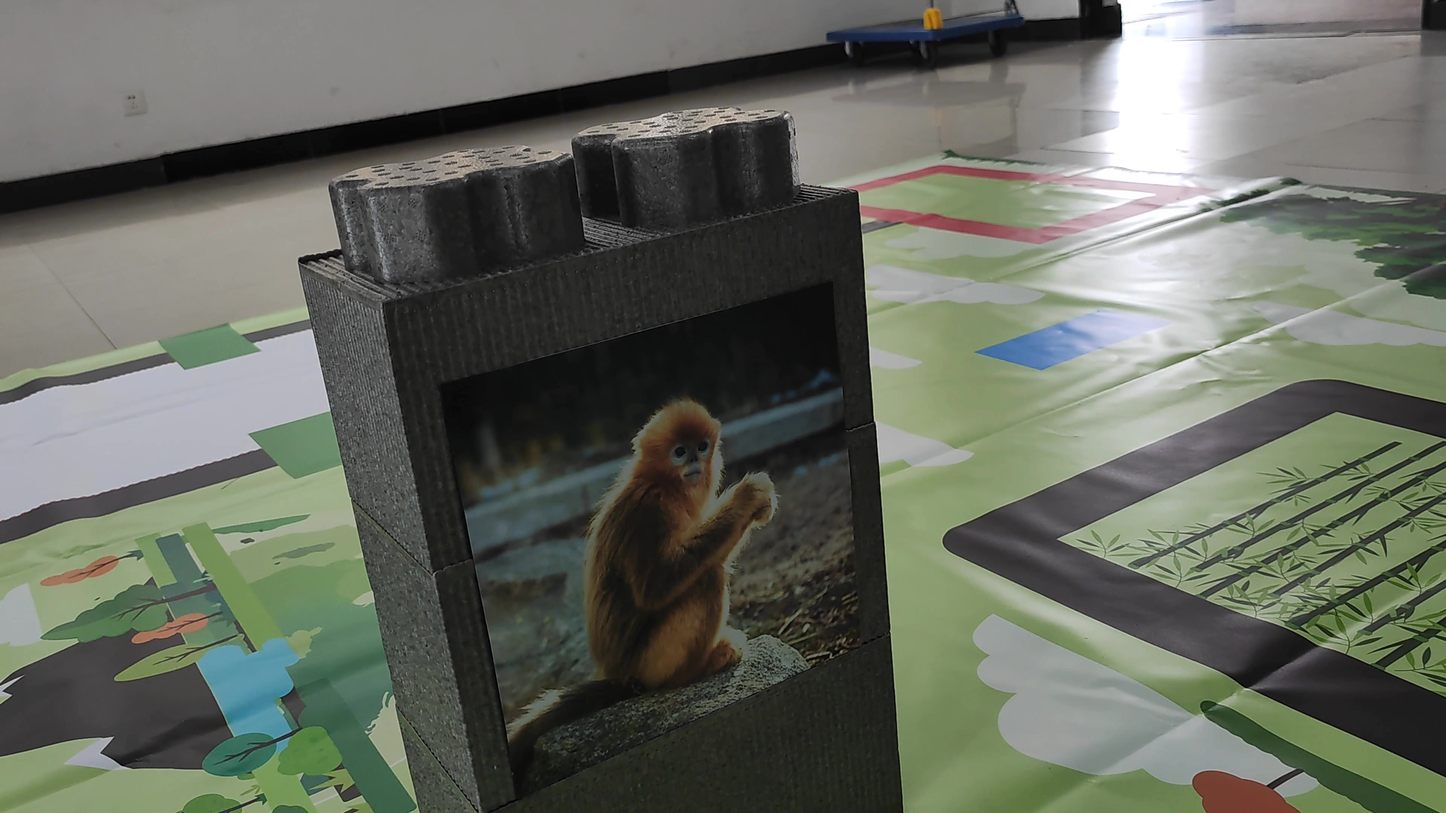monkey: (478, 375, 812, 758)
